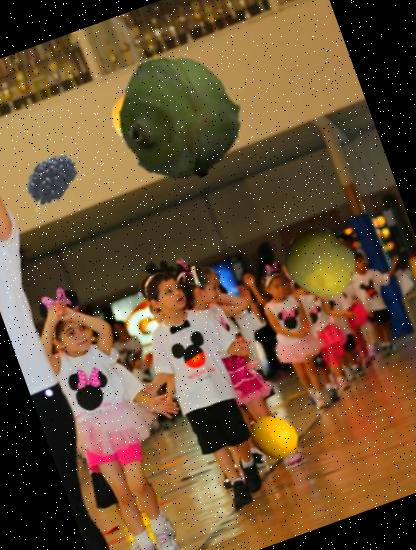Apple: (274, 215, 368, 309)
Kohlrabi: (93, 30, 262, 199)
Kumquats: (97, 63, 220, 186)
Lemon: (240, 403, 308, 471)
Mulberry: (1, 135, 86, 220)
